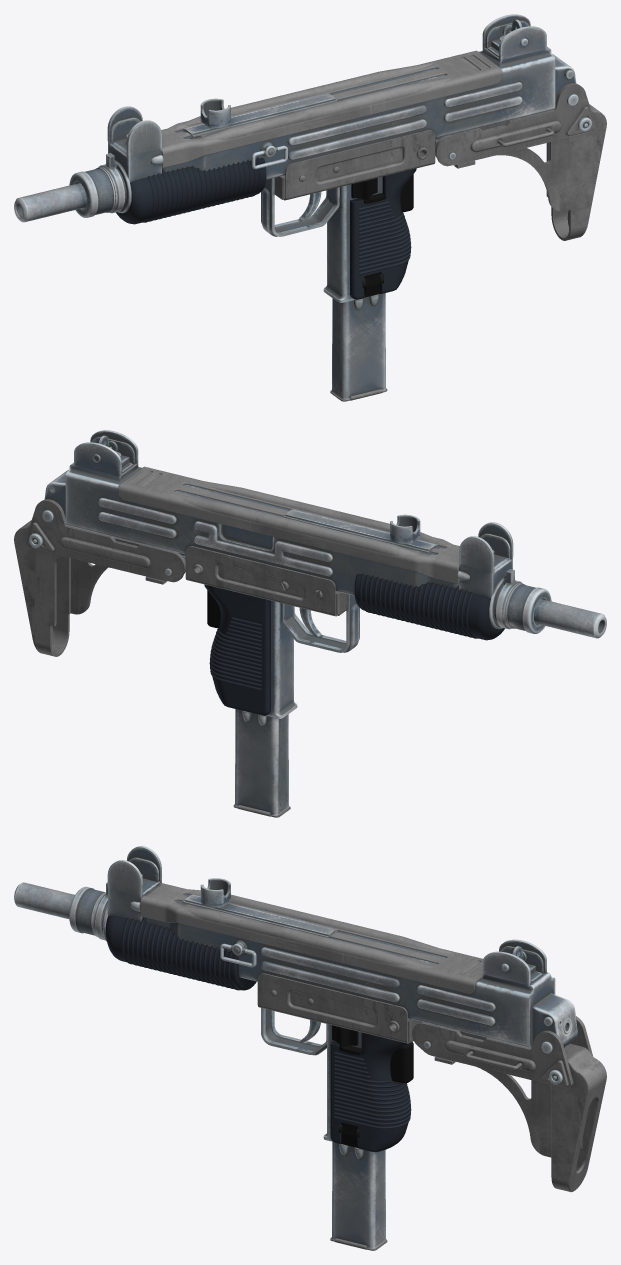
File: uzi.glb
3 views of the same model, one above another, from view 1: azimuth 30°, elevation 25°; view 2: azimuth 150°, elevation 25°; view 3: azimuth 330°, elevation 25° (orthographic).
Parts seen in each view (by area): view 1: uzi_kuszoid; view 2: uzi_kuszoid; view 3: uzi_kuszoid.
Part boxes in pixels (x1,y1,x2,y2): uzi_kuszoid: (14,14,606,401); uzi_kuszoid: (14,430,606,817); uzi_kuszoid: (14,846,606,1250).
Bounding box in the file's own units: 0.4542 × 0.2493 × 0.0488.
1 material, 1 textured.
